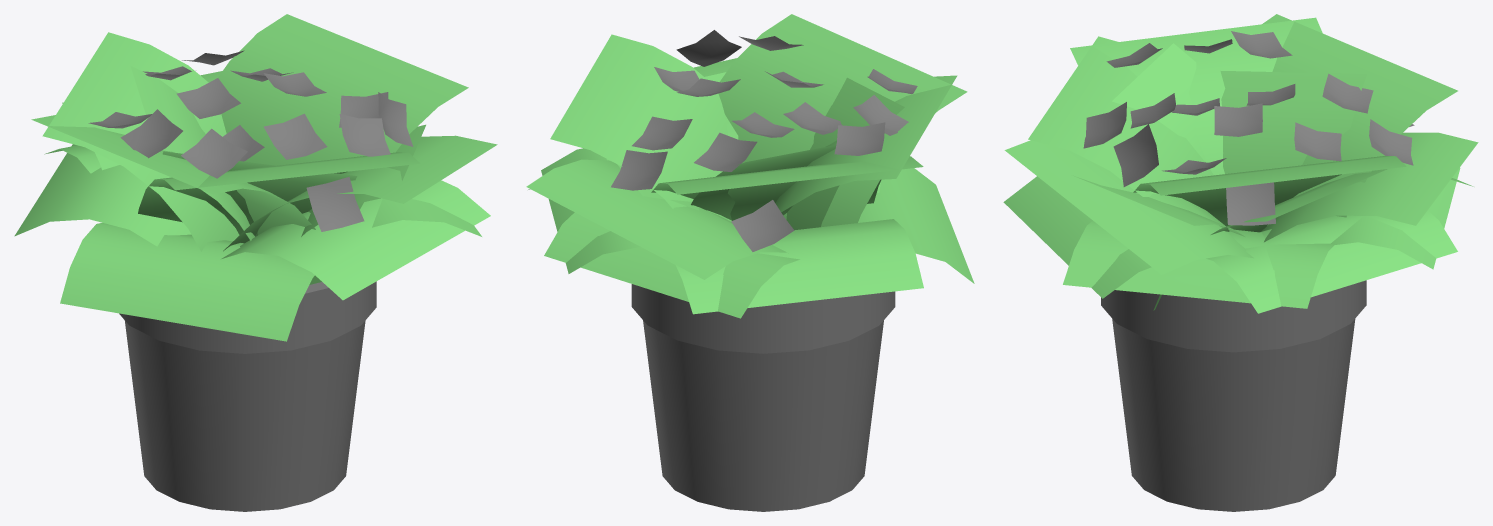
Rendered from SM_flowerpot_04.fbx.
3 views of the same model, side by side, from view 1: azimuth 30°, elevation 25°; view 2: azimuth 150°, elevation 25°; view 3: azimuth 270°, elevation 25° (orthographic).
Parts seen in each view (by area): view 1: Cylinder190; view 2: Cylinder190; view 3: Cylinder190.
Boxes of the visible parts, x1,y1,x2,y2 form: Cylinder190: (14,14,497,511); Cylinder190: (526,14,974,511); Cylinder190: (1003,14,1478,511).
Bounding box in the file's own units: 26.32 × 23.35 × 25.83.
